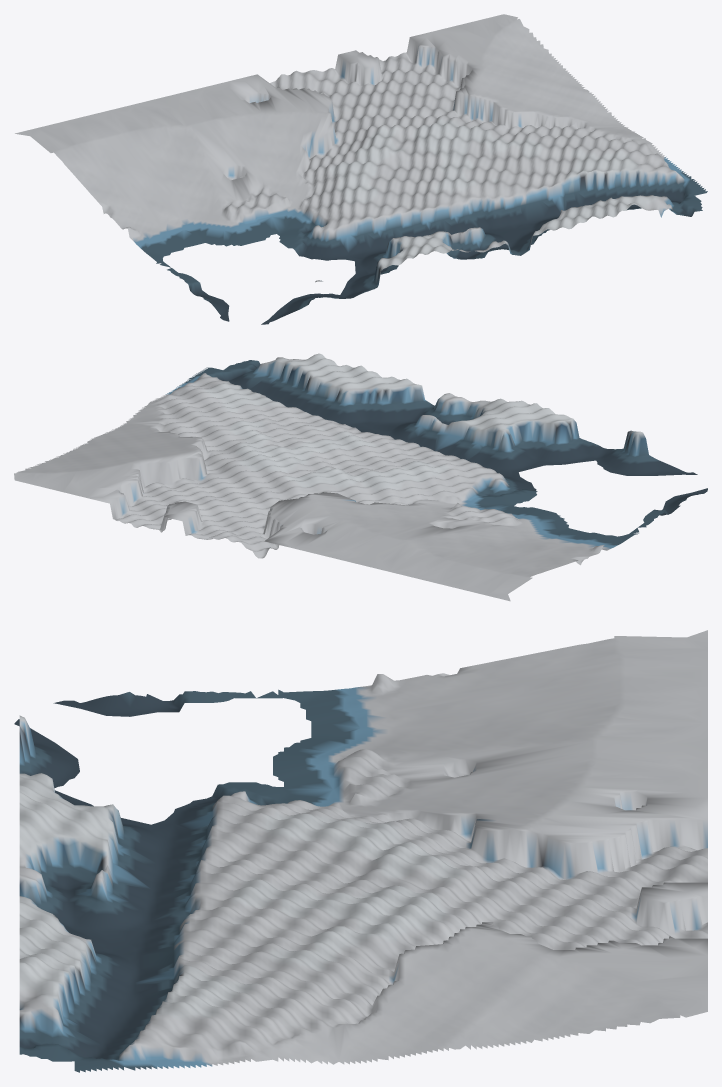
The model's file is frost_tile_x2z0.glb.
The picture shows the model from 3 angles, top to bottom: view 1: azimuth 30°, elevation 25°; view 2: azimuth 150°, elevation 25°; view 3: azimuth 270°, elevation 25°; orthographic projection. The views are drawn at different scales.
Parts seen in each view (by area): view 1: geometry_0; view 2: geometry_0; view 3: geometry_0.
Boxes of the visible parts, x1=… form: geometry_0: x1=15, y1=14, x2=707, y2=324; geometry_0: x1=14, y1=353, x2=707, y2=601; geometry_0: x1=14, y1=630, x2=707, y2=1072.
Bounding box in the file's own units: 1001 × 78 × 756.
